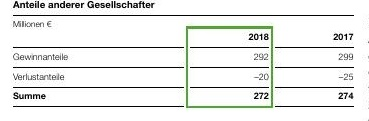table: (0, 0, 369, 121)
